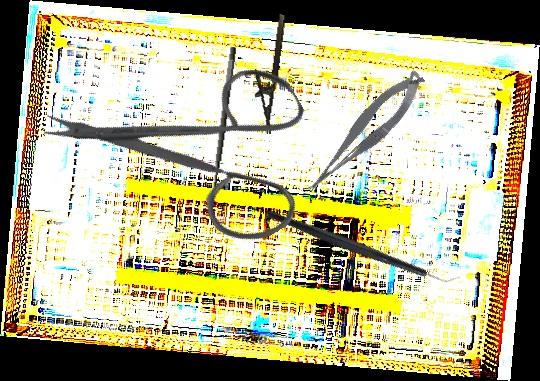Chopper: (264, 151, 463, 340)
Hook Surgical: (202, 46, 251, 227)
Iris Scissors: (36, 2, 351, 308)
Micro Scissor: (291, 65, 437, 199)
Needle Holder: (246, 11, 288, 135)
